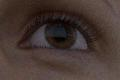eye: (46, 22, 77, 50)
